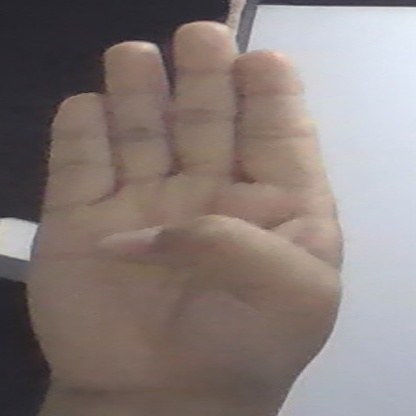B: (26, 22, 342, 399)
